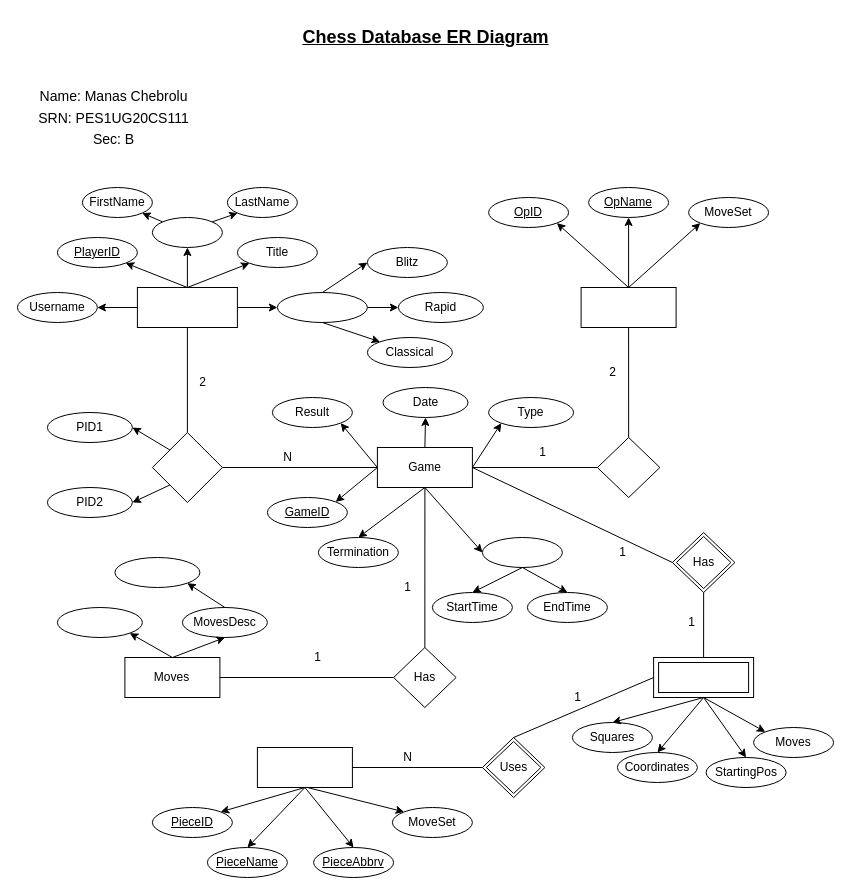
This 852x895 diagram has some shape labels left out. Each missing label, with the box of its shape:
Board: (653, 656, 754, 698)
Involves: (596, 436, 660, 498)
MovesID: (56, 606, 142, 638)
Name: (151, 216, 222, 248)
Opening: (580, 286, 676, 328)
Participate: (151, 432, 222, 502)
Piece: (256, 746, 352, 788)
Player: (136, 286, 237, 328)
Rating: (276, 292, 367, 322)
Time: (481, 536, 562, 568)
Timestamp: (114, 556, 200, 588)
